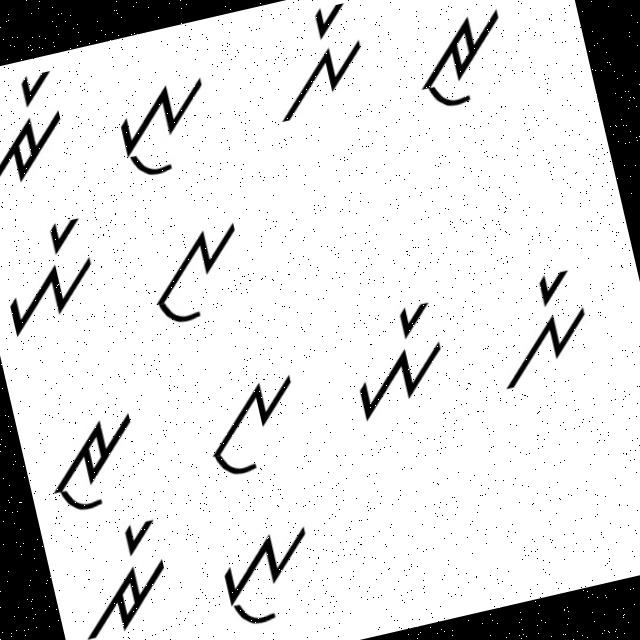lar: (477, 257, 608, 398), (257, 0, 383, 125)
law: (185, 359, 322, 485), (138, 206, 262, 334)
rar: (60, 515, 186, 639), (0, 60, 85, 200)
raw: (400, 0, 523, 125), (32, 402, 154, 524)
yar: (328, 286, 466, 433), (0, 209, 110, 341)
yaw: (102, 70, 228, 193), (204, 511, 330, 634)
